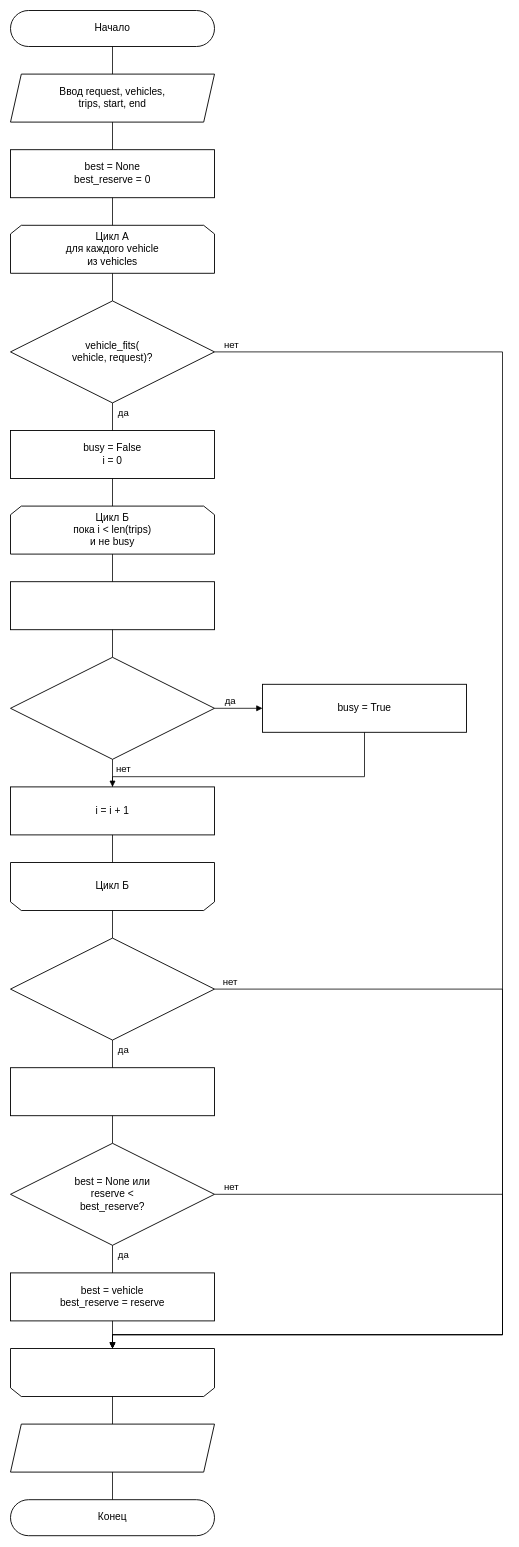
This 519x1547 diagram has some shape labels left out. The shapes that lost their labels are listed below. From the top down, each one's centre as x and y in pixels, then its label:
the point at 112,605: trip = trips[i]
the point at 112,708: trip.vehicle_id = vehicle.vehicle_id и рейс пересекается с [start, end)?
the point at 112,988: не busy?
the point at 112,1091: reserve = vehicle.capacity_t − request.cargo_mass_t
the point at 112,1372: Цикл А
the point at 112,1447: Вывод best
